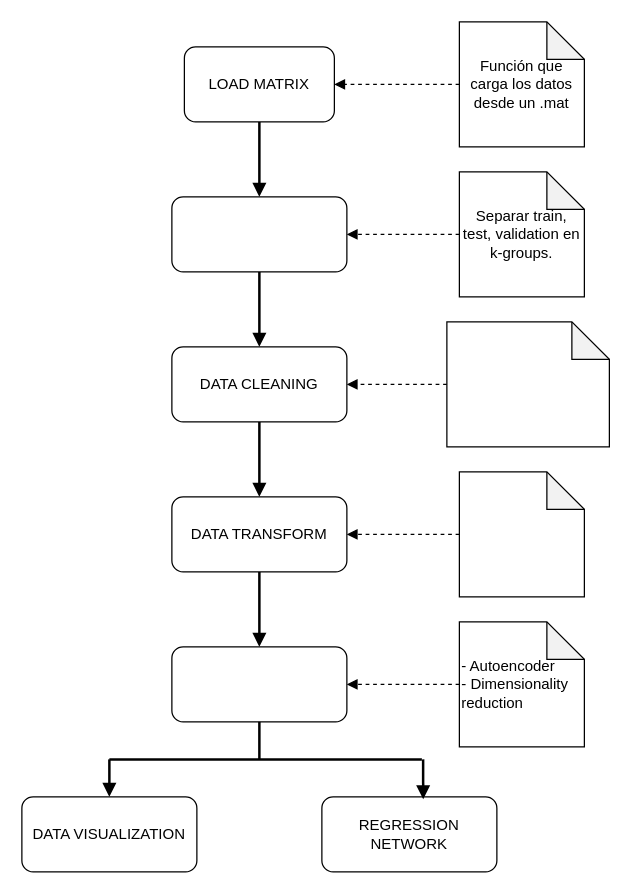
The diagram is 631 pixels wide and 894 high, and some of its shapes have lost their labels. The centre of each missing label's shape, as x and y in pixels:
- Basic data ceaning - Outlier identificaction - Missing data: the point at 527,384
DATA PREPARATION: the point at 259,234
FEATURE ENGINEERING: the point at 259,684
Normalization and standatrization: the point at 521,534
